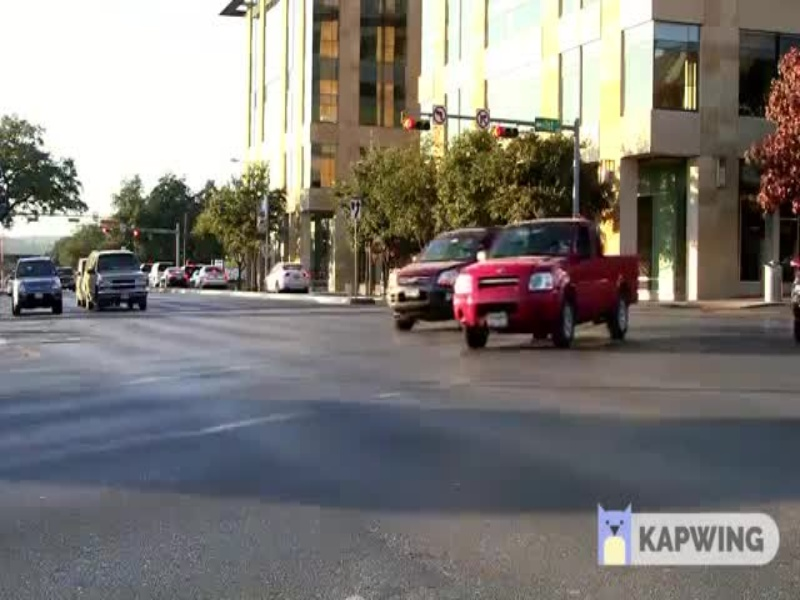suv: (367, 225, 500, 333), (80, 246, 153, 322), (9, 250, 70, 319)
truck: (456, 218, 643, 363)
